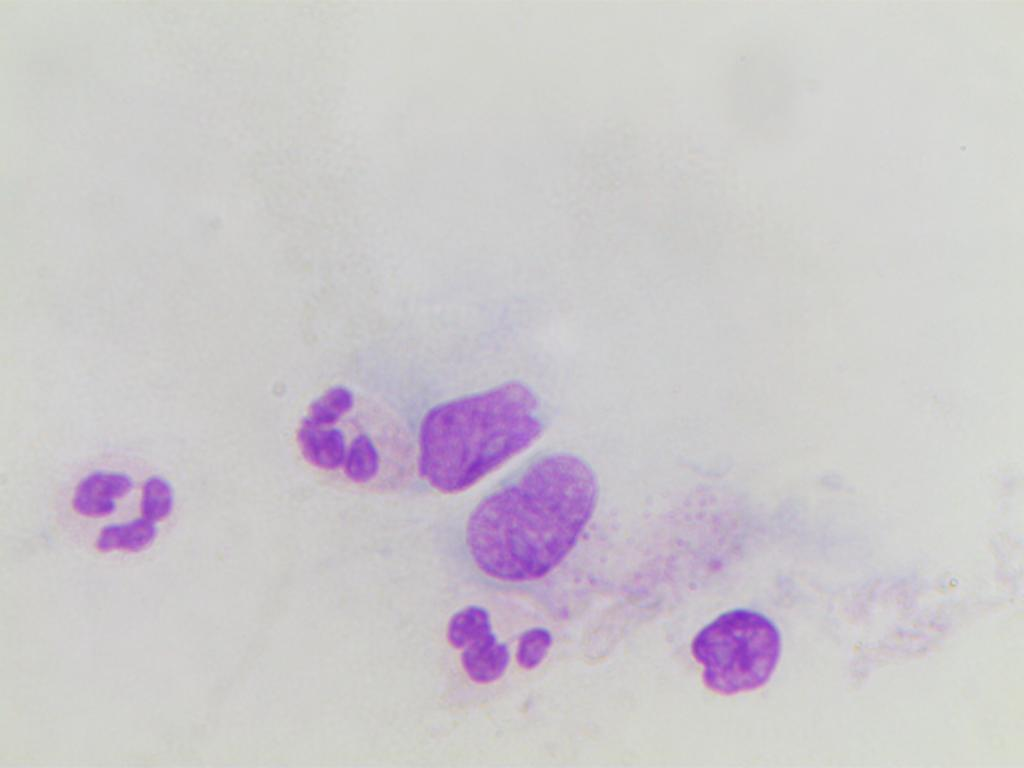epithelial: (464, 449, 608, 583), (416, 353, 547, 493), (661, 596, 807, 703)
neutrophil: (11, 412, 206, 595), (277, 356, 416, 530), (420, 589, 567, 709)
